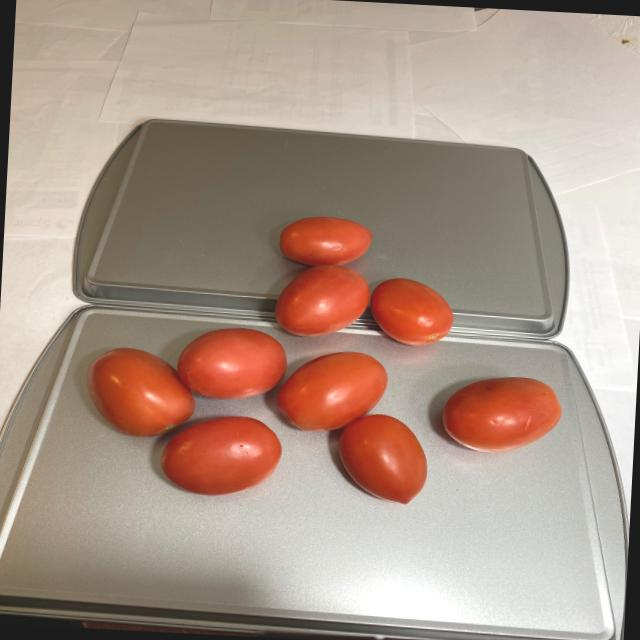tomato: (80, 199, 578, 512), (103, 264, 450, 504)
